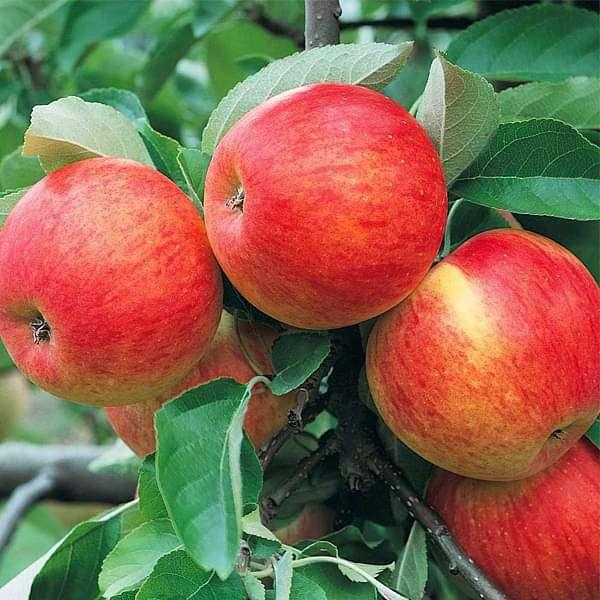apple: (205, 80, 453, 339), (365, 222, 600, 490), (5, 155, 223, 405)
